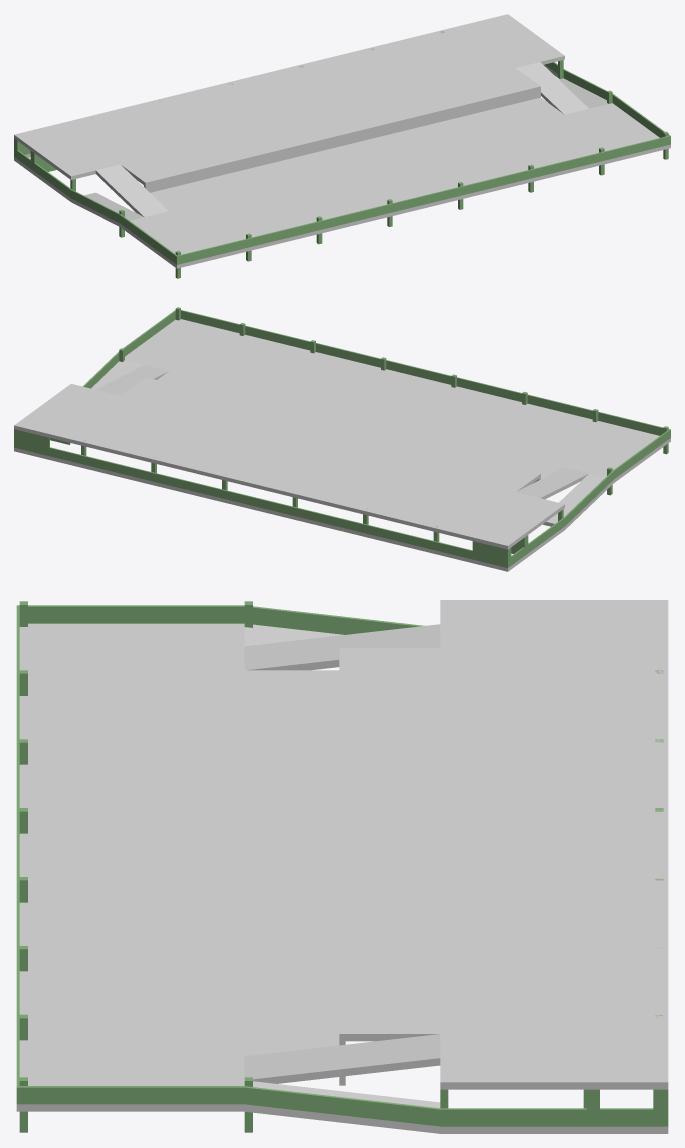
File: carparkLevel.glb
3 views of the same model, one above another, from view 1: azimuth 30°, elevation 25°; view 2: azimuth 150°, elevation 25°; view 3: azimuth 270°, elevation 25° (orthographic). The views are drawn at different scales.
Visible parts, largest first — view 1: carparkLevelFloor, carparkLevelColumns; view 2: carparkLevelFloor, carparkLevelColumns; view 3: carparkLevelFloor, carparkLevelColumns.
Part boxes in pixels (x1=…): carparkLevelFloor: x1=14, y1=14, x2=670, y2=268; carparkLevelColumns: x1=14, y1=31, x2=670, y2=278; carparkLevelFloor: x1=14, y1=319, x2=670, y2=571; carparkLevelColumns: x1=14, y1=307, x2=670, y2=567; carparkLevelFloor: x1=16, y1=600, x2=668, y2=1133; carparkLevelColumns: x1=16, y1=601, x2=668, y2=1132.
Bounding box in the file's own units: 70 × 3.5 × 40.
